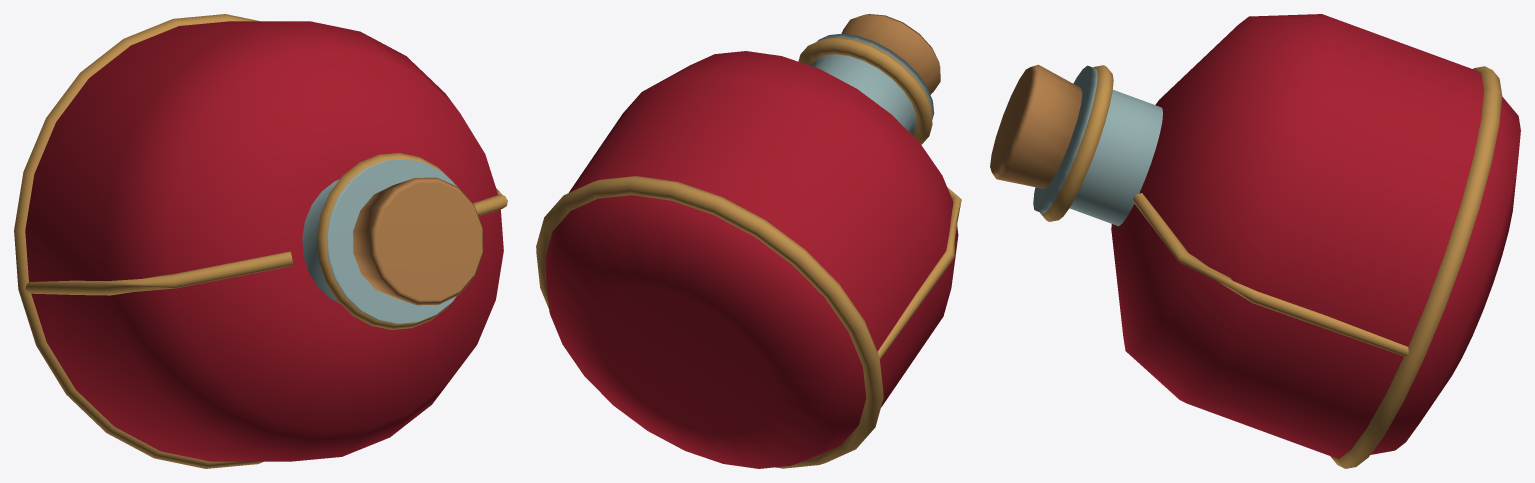
File: health_l.glb
3 renders of one model, left to right at view 1: azimuth 30°, elevation 25°; view 2: azimuth 150°, elevation 25°; view 3: azimuth 270°, elevation 25°, orthographic. The views are drawn at different scales.
Visible parts, largest first — view 1: SM_health_l; view 2: SM_health_l; view 3: SM_health_l.
Part boxes in pixels (x1,y1,x2,y2): SM_health_l: (14,14,507,468); SM_health_l: (536,14,961,468); SM_health_l: (990,14,1520,468).
Size of the model in its own units: 0.3587 by 0.3793 by 0.4413.
